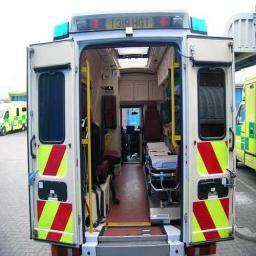ambulance: (27, 11, 234, 255)
